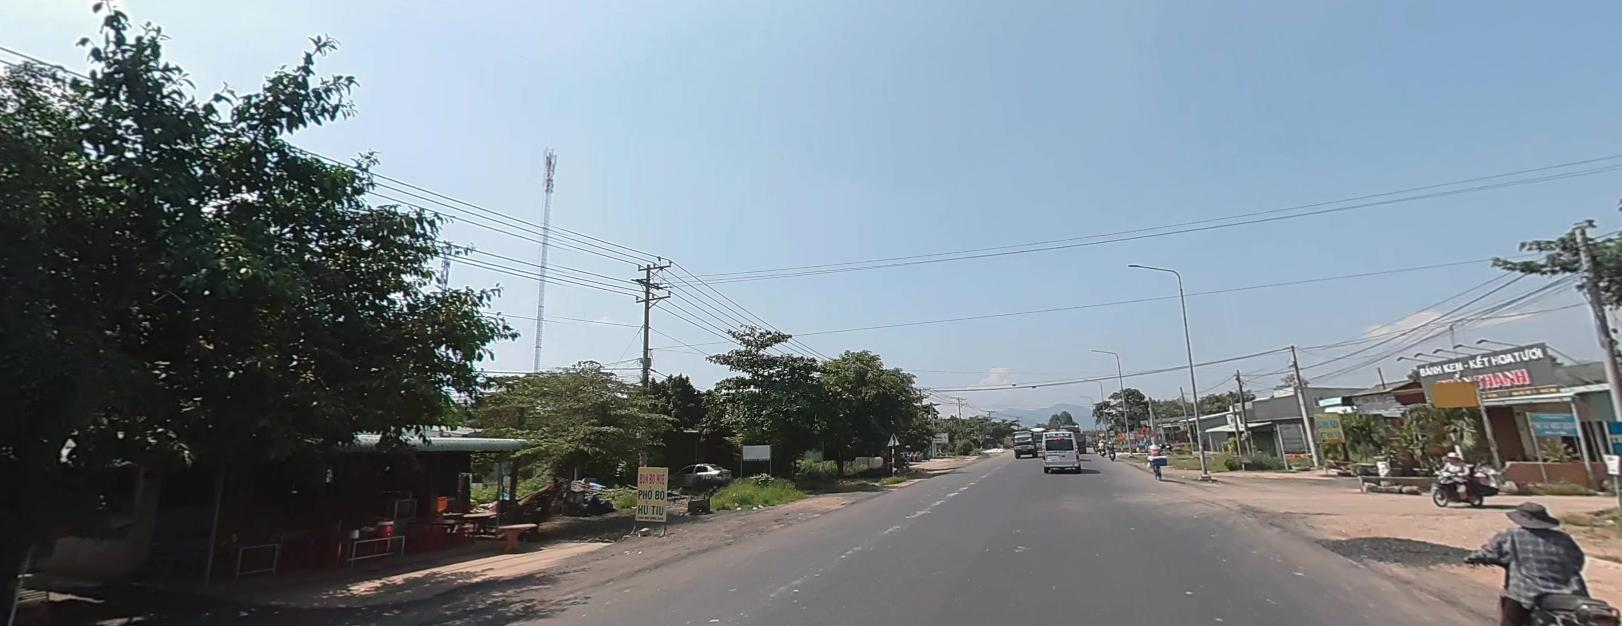Nguy hiem: (1138, 423, 1151, 433), (1115, 430, 1125, 438)
